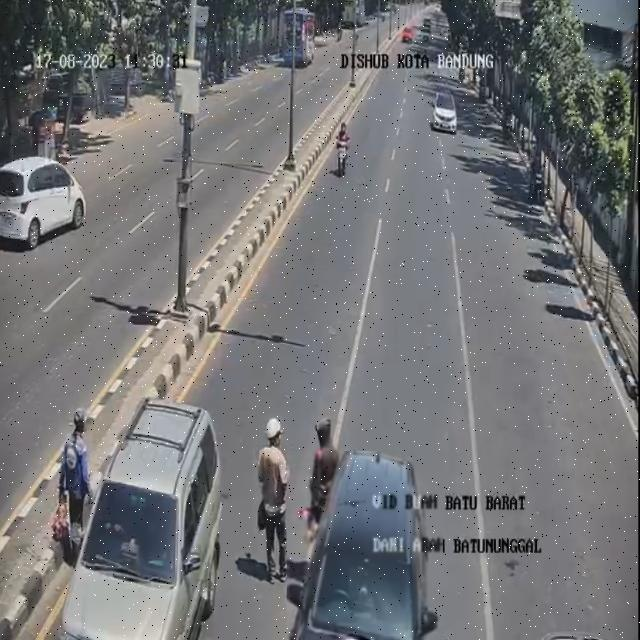cars: (62, 400, 220, 640), (288, 452, 443, 639), (432, 88, 458, 133)
